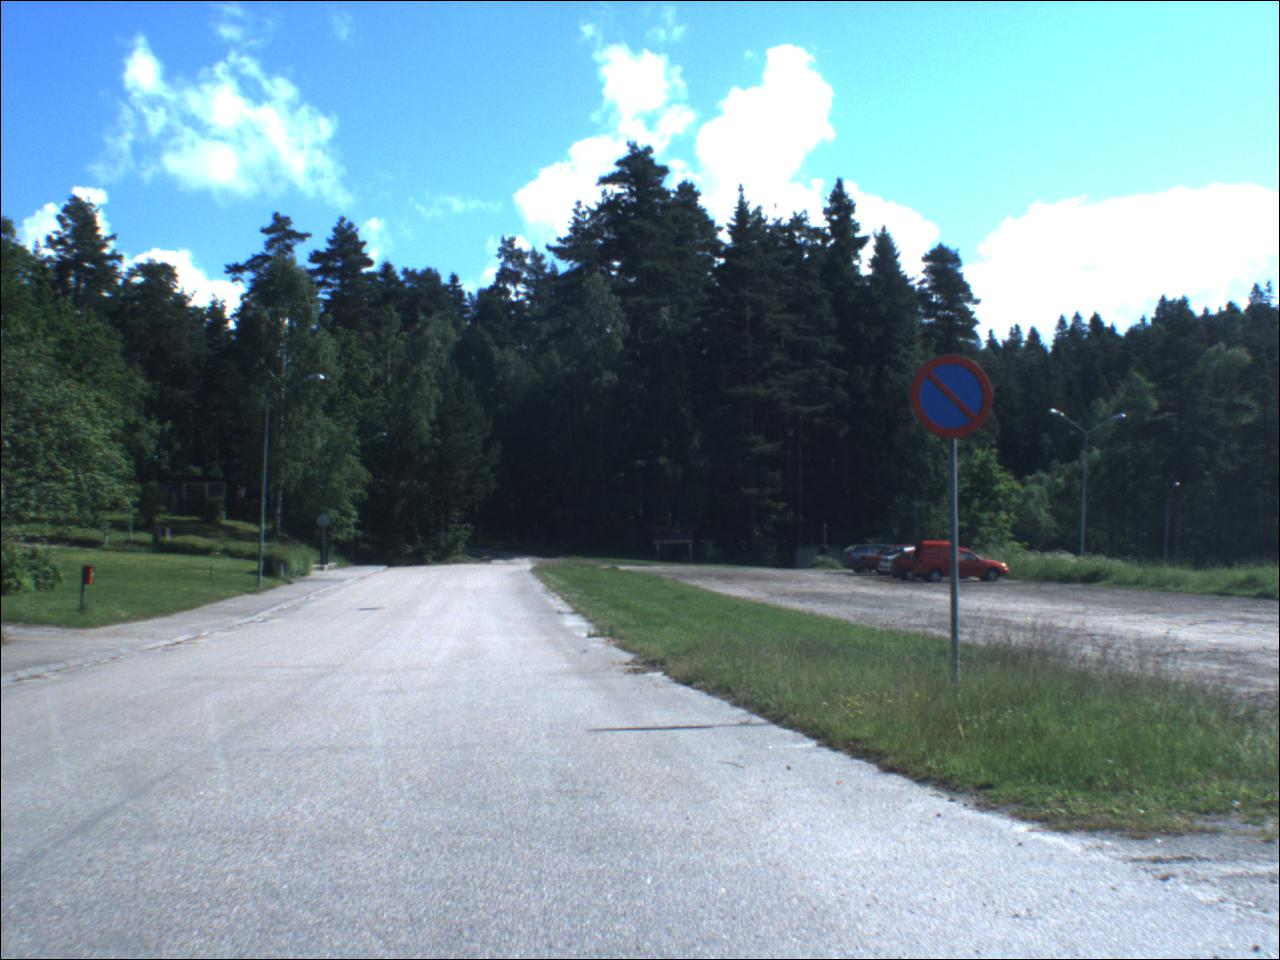NO_PARKING: (910, 355, 999, 443)
